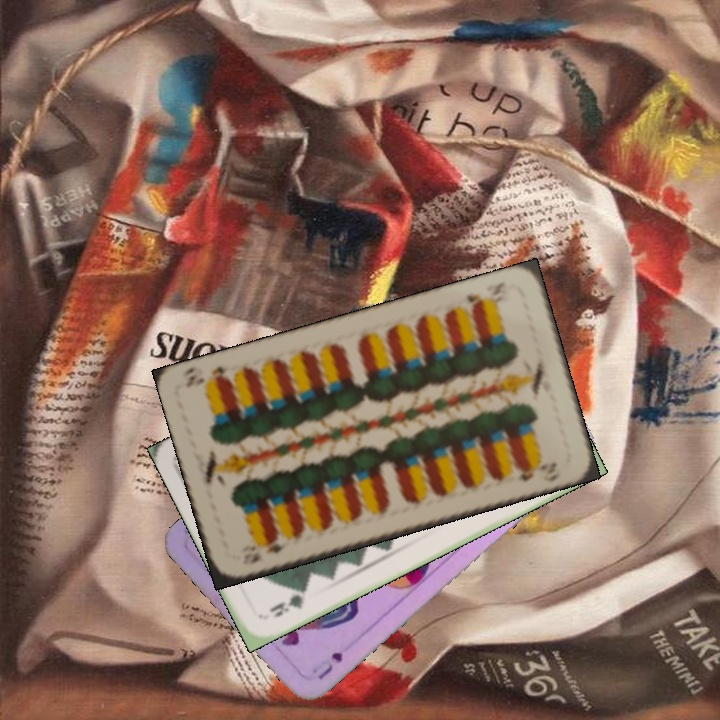E10: (462, 277, 508, 313), (246, 533, 290, 566)
G9: (264, 584, 310, 620)
SU: (313, 647, 346, 683)
